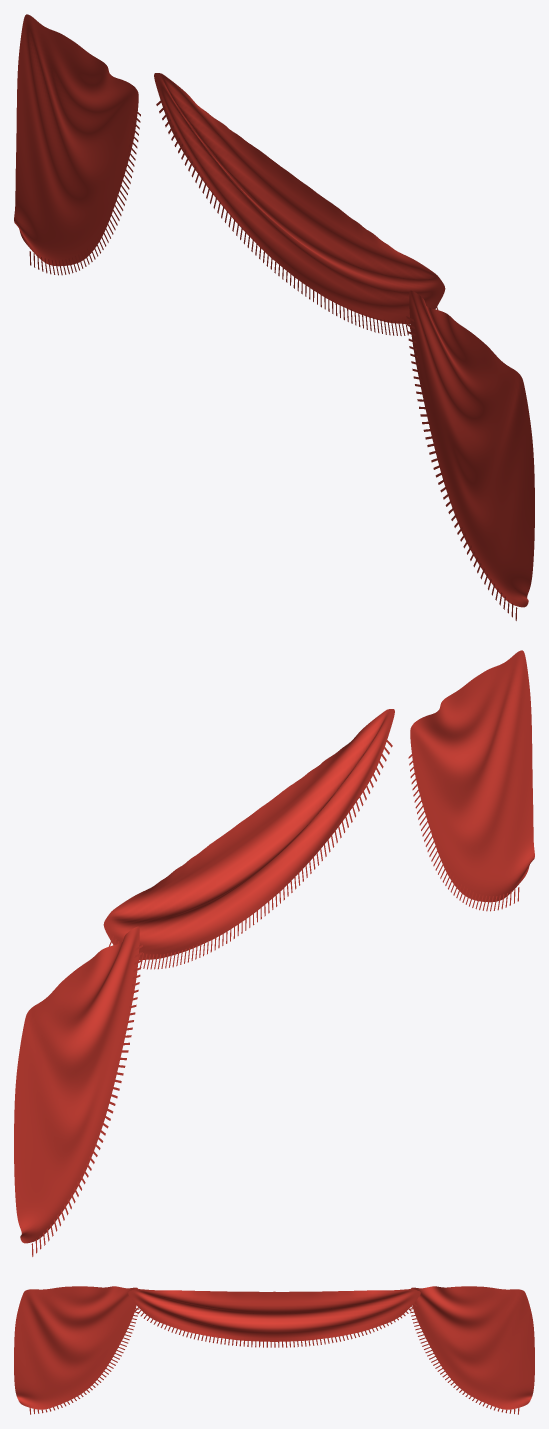
Rendered from Cloth.fbx.
3 renders of one model, top to bottom at view 1: azimuth 30°, elevation 25°; view 2: azimuth 150°, elevation 25°; view 3: azimuth 270°, elevation 25°, orthographic. The views are drawn at different scales.
Parts seen in each view (by area): view 1: Cloth; view 2: Cloth; view 3: Cloth.
Boxes of the visible parts, x1=… form: Cloth: x1=14, y1=14, x2=534, y2=620; Cloth: x1=14, y1=650, x2=534, y2=1256; Cloth: x1=14, y1=1286, x2=534, y2=1414.
Bounding box in the file's own units: 45.43 × 320 × 1146.
